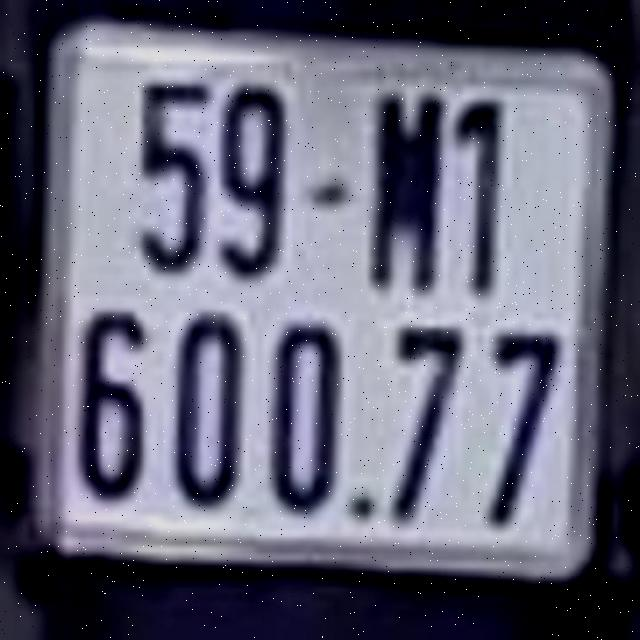0: (172, 307, 242, 508), (270, 318, 341, 513)
1: (452, 94, 507, 295)
5: (133, 76, 211, 275)
6: (76, 306, 149, 500)
7: (484, 323, 562, 531), (388, 316, 463, 524)
9: (218, 81, 286, 279)
M: (371, 88, 445, 296)
